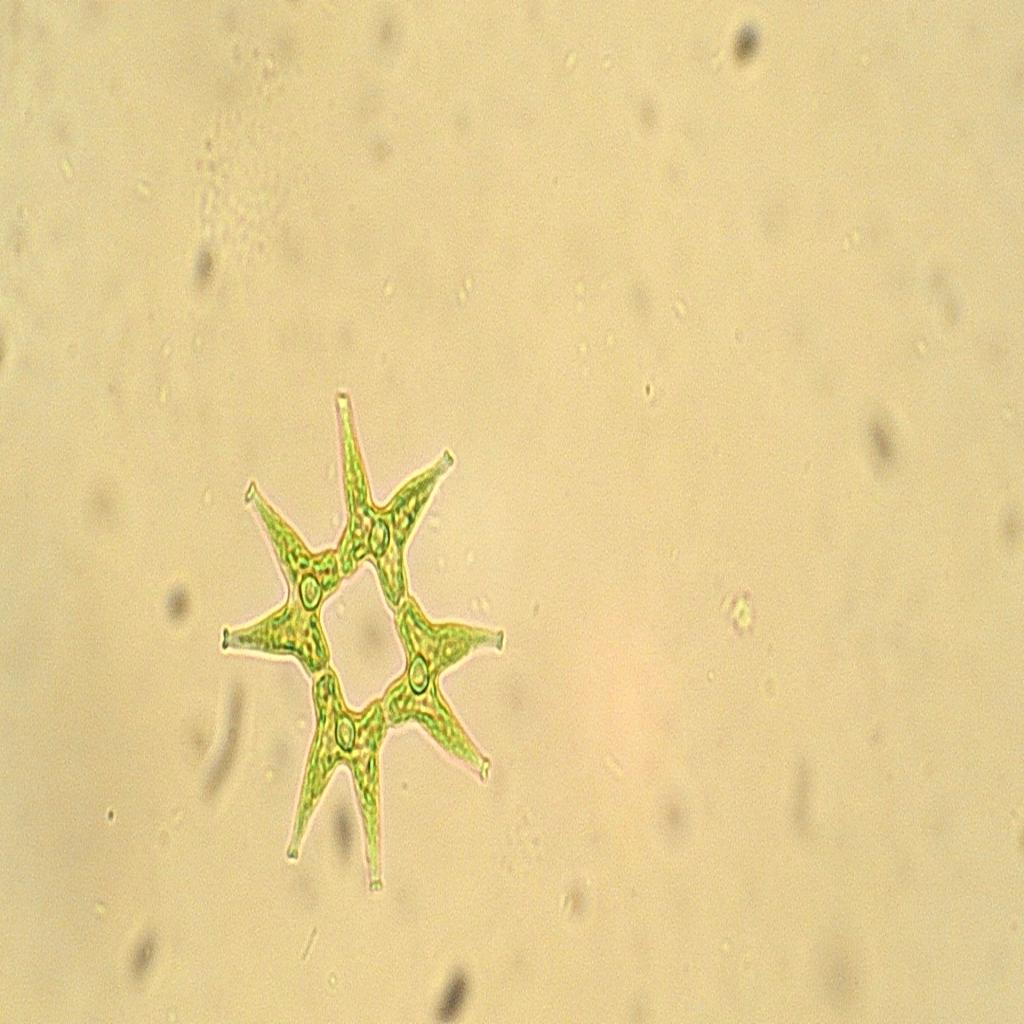Pediastrum_CO: (214, 384, 521, 912)
